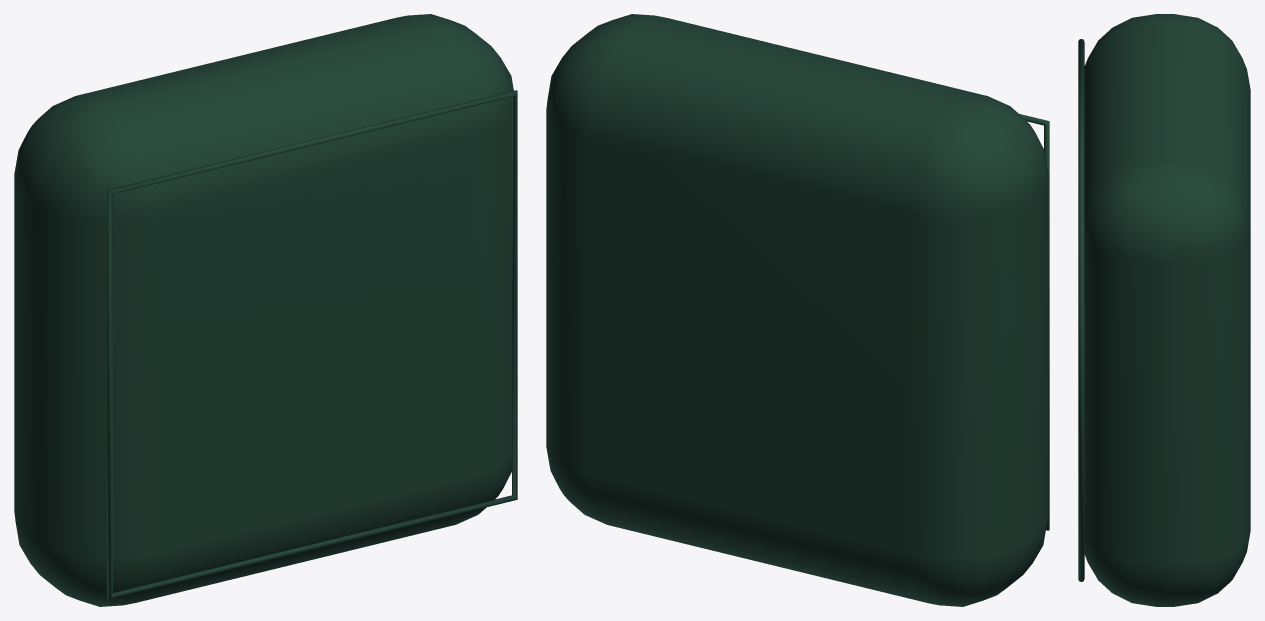
Rendered from wh-forest-green-cushion.glb.
3 renders of one model, left to right at view 1: azimuth 30°, elevation 25°; view 2: azimuth 150°, elevation 25°; view 3: azimuth 270°, elevation 25°, orthographic. The views are drawn at different scales.
Parts seen in each view (by area): view 1: Soft cushion.001; view 2: Soft cushion.001; view 3: Soft cushion.001.
Boxes of the visible parts, x1=… form: Soft cushion.001: x1=14, y1=14, x2=517, y2=606; Soft cushion.001: x1=546, y1=14, x2=1049, y2=606; Soft cushion.001: x1=1078, y1=14, x2=1250, y2=606.
Size of the model in its own units: 0.45 by 0.45 by 0.16.
